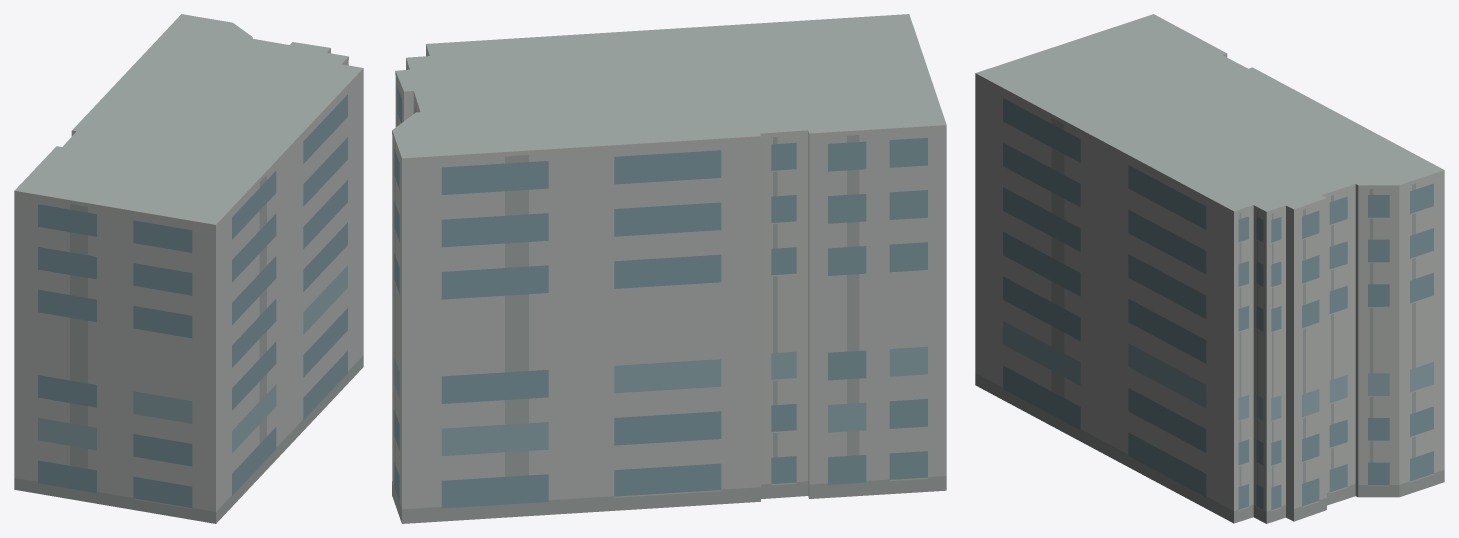
Rendered from survey-upis-32696416.glb.
3 views of the same model, side by side, from view 1: azimuth 30°, elevation 25°; view 2: azimuth 150°, elevation 25°; view 3: azimuth 270°, elevation 25° (orthographic). The views are drawn at different scales.
Visible parts, largest first — view 1: survey-upis-32696416.tmp; view 2: survey-upis-32696416.tmp; view 3: survey-upis-32696416.tmp.
Boxes of the visible parts, x1,y1,x2,y2 form: survey-upis-32696416.tmp: (14, 14, 363, 523); survey-upis-32696416.tmp: (392, 14, 946, 523); survey-upis-32696416.tmp: (975, 14, 1444, 523).
Bounding box in the file's own units: 27.33 × 20.1 × 27.39.
